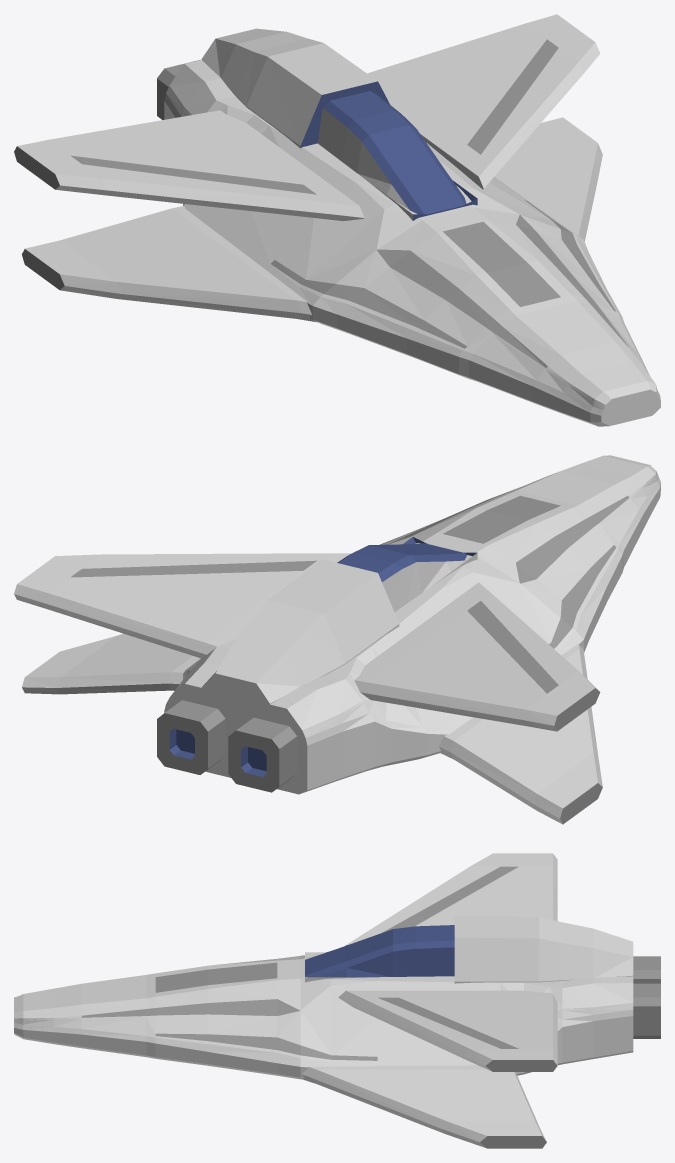
File: hull_wave.obj
3 renders of one model, top to bottom at view 1: azimuth 30°, elevation 25°; view 2: azimuth 150°, elevation 25°; view 3: azimuth 270°, elevation 25°, orthographic. The views are drawn at different scales.
Bounding box in the file's own units: 3.17 × 0.852 × 4.2.
